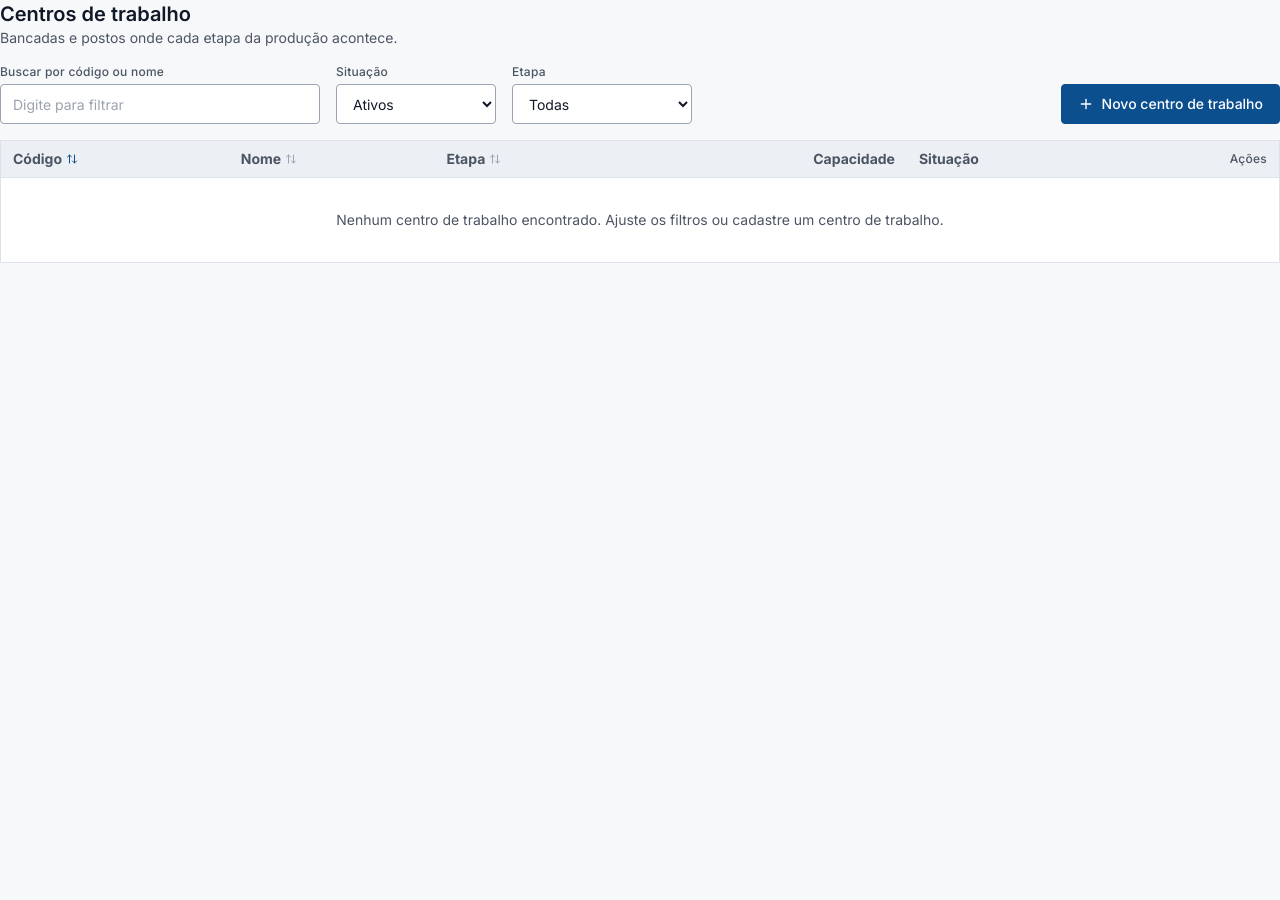
Test: CentrosTrabalho › capacidade acima de 24 horas e barrada no formulario
Expected: the text "Nenhum centro de trabalho encontrado" is shown, top-left (336, 211), bottom-right (944, 228)
Click the button "Novo centro de trabalho" at (1170, 104), box top-left (1061, 84), bottom-right (1279, 124)
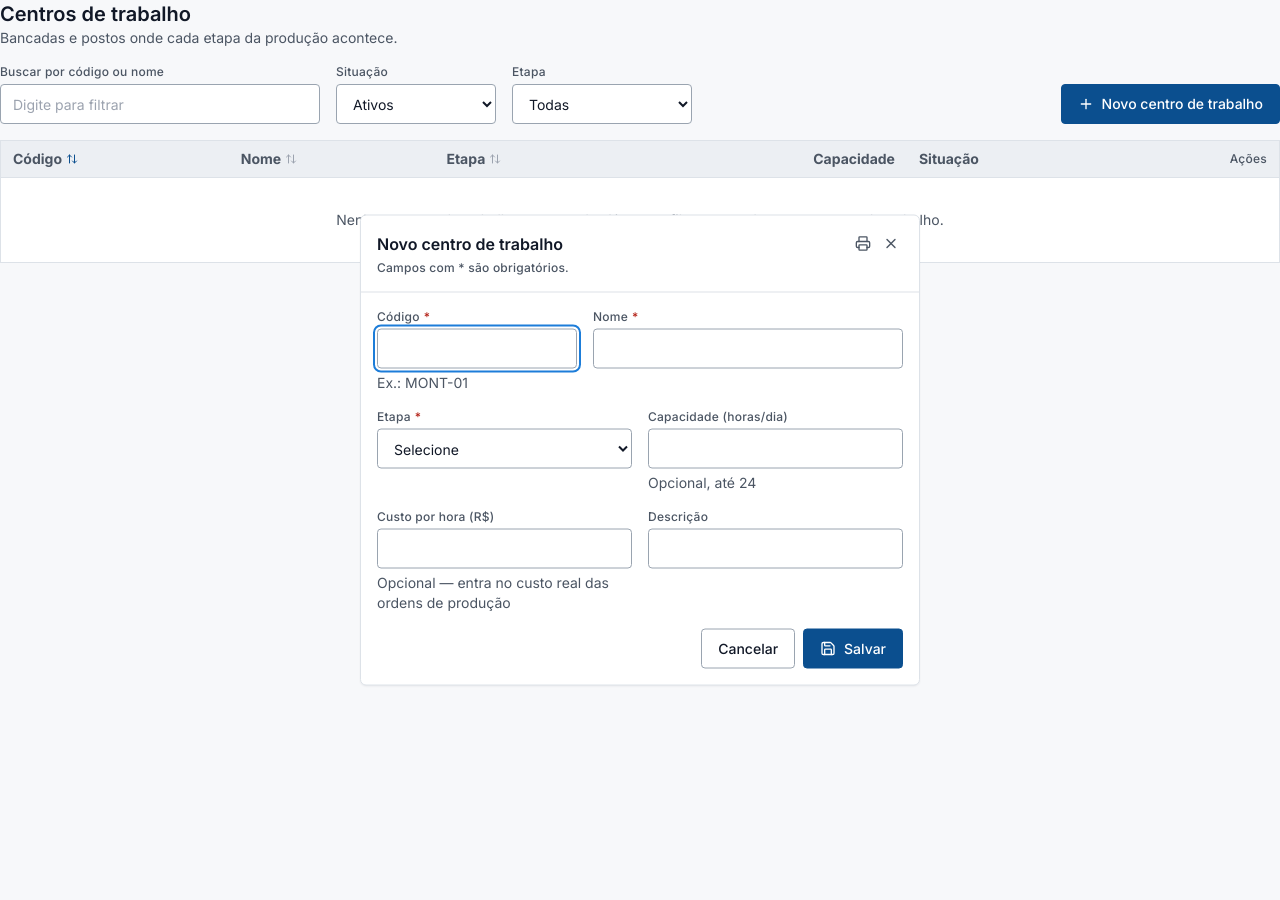
Type "TST-01" into the field labelled "Código*" at (477, 348), box top-left (377, 328), bottom-right (577, 368)
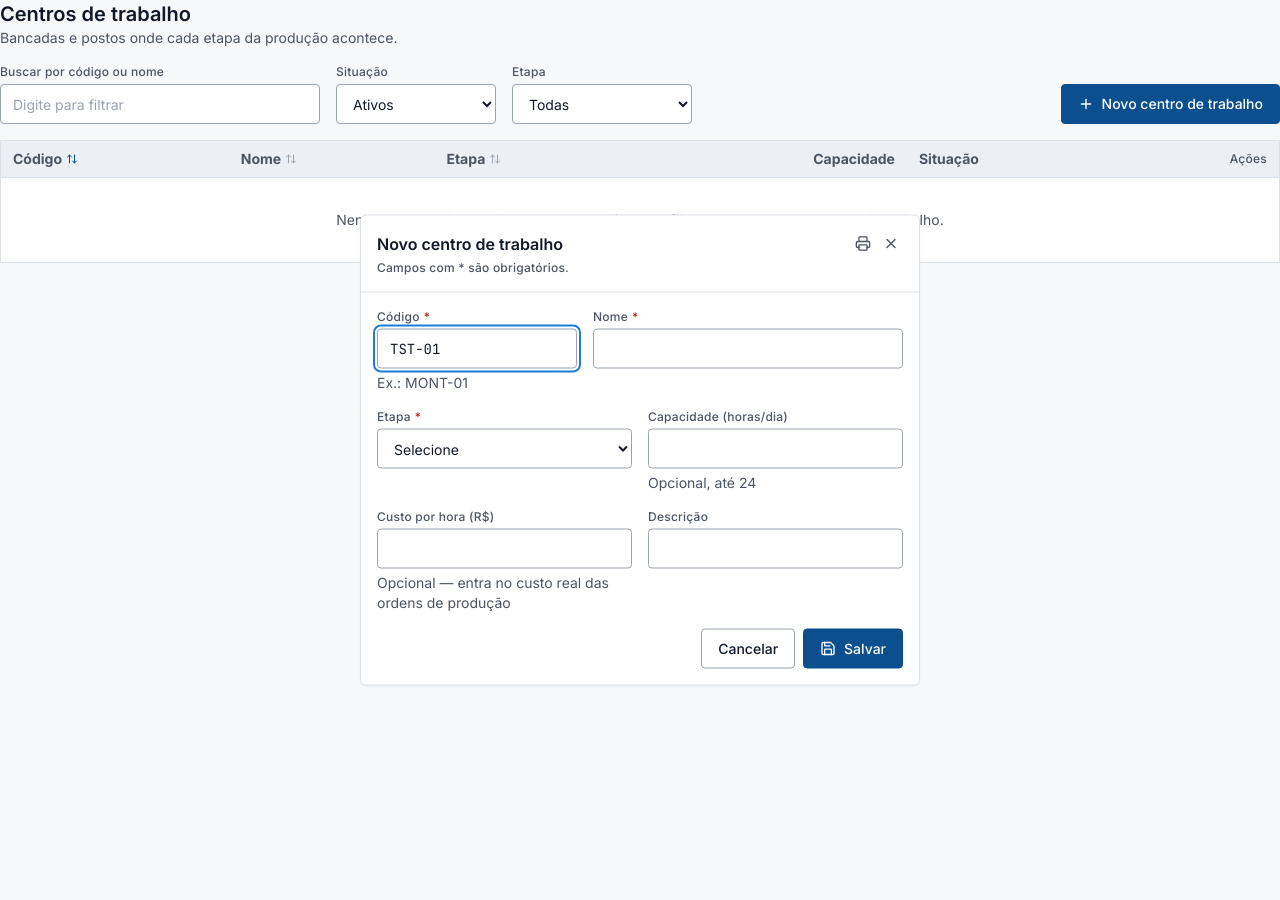
Type "Teste" into the field labelled "Nome*" at (748, 348), box top-left (593, 328), bottom-right (903, 368)
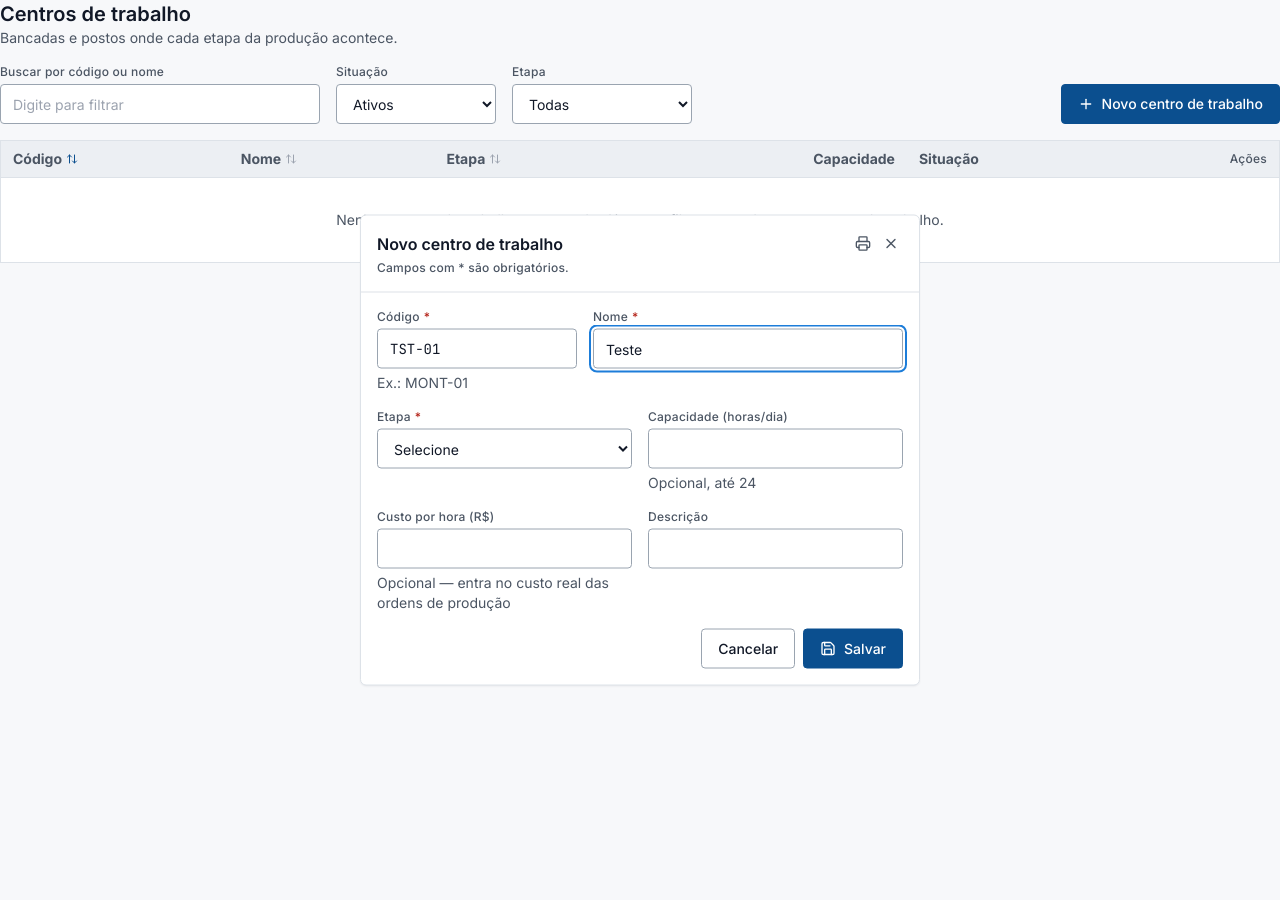
Select "Testes" in the dropdown labelled "Etapa*" at (504, 448), box top-left (377, 428), bottom-right (632, 468)
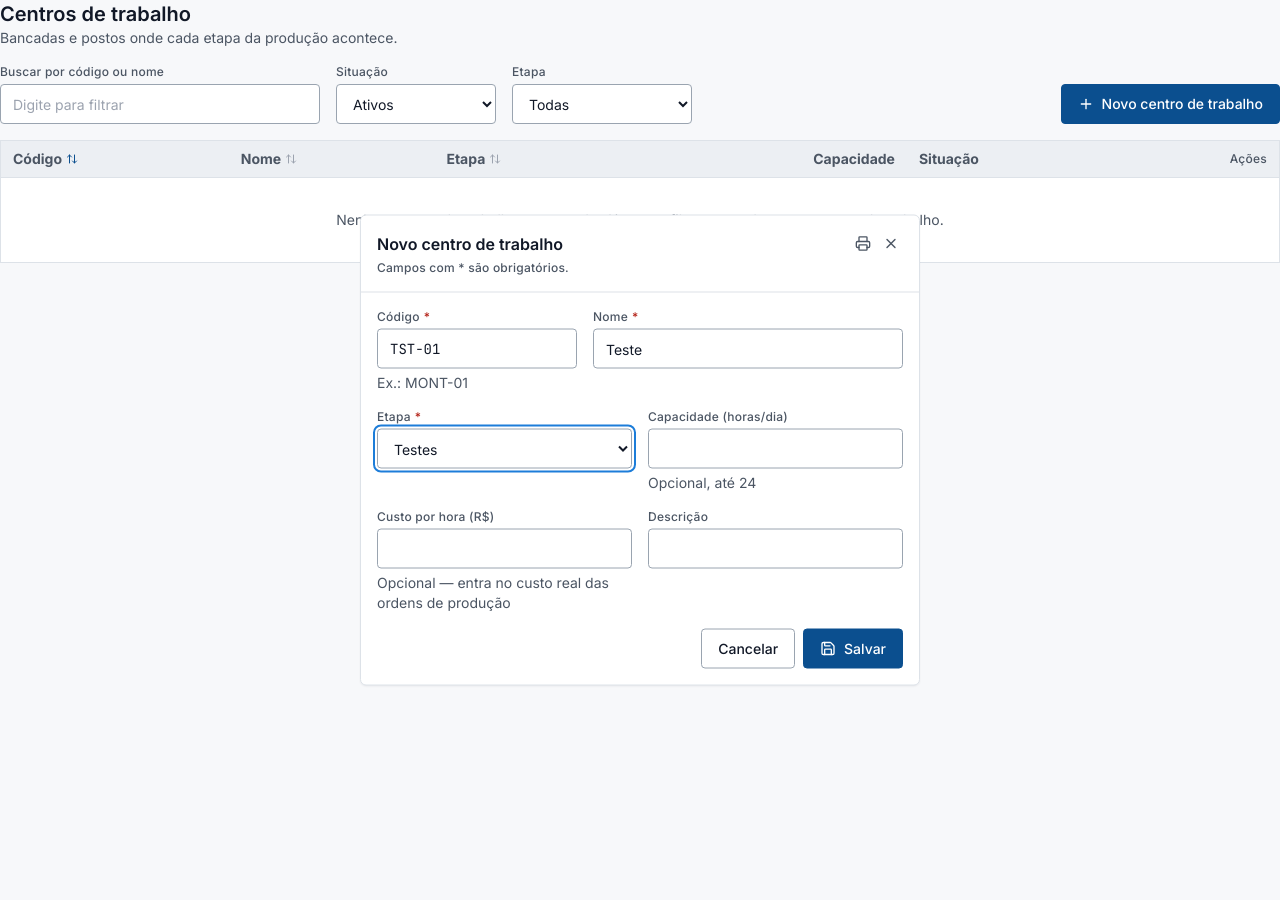
Type "25" into the field labelled "Capacidade (horas/dia)" at (776, 448), box top-left (648, 428), bottom-right (903, 468)
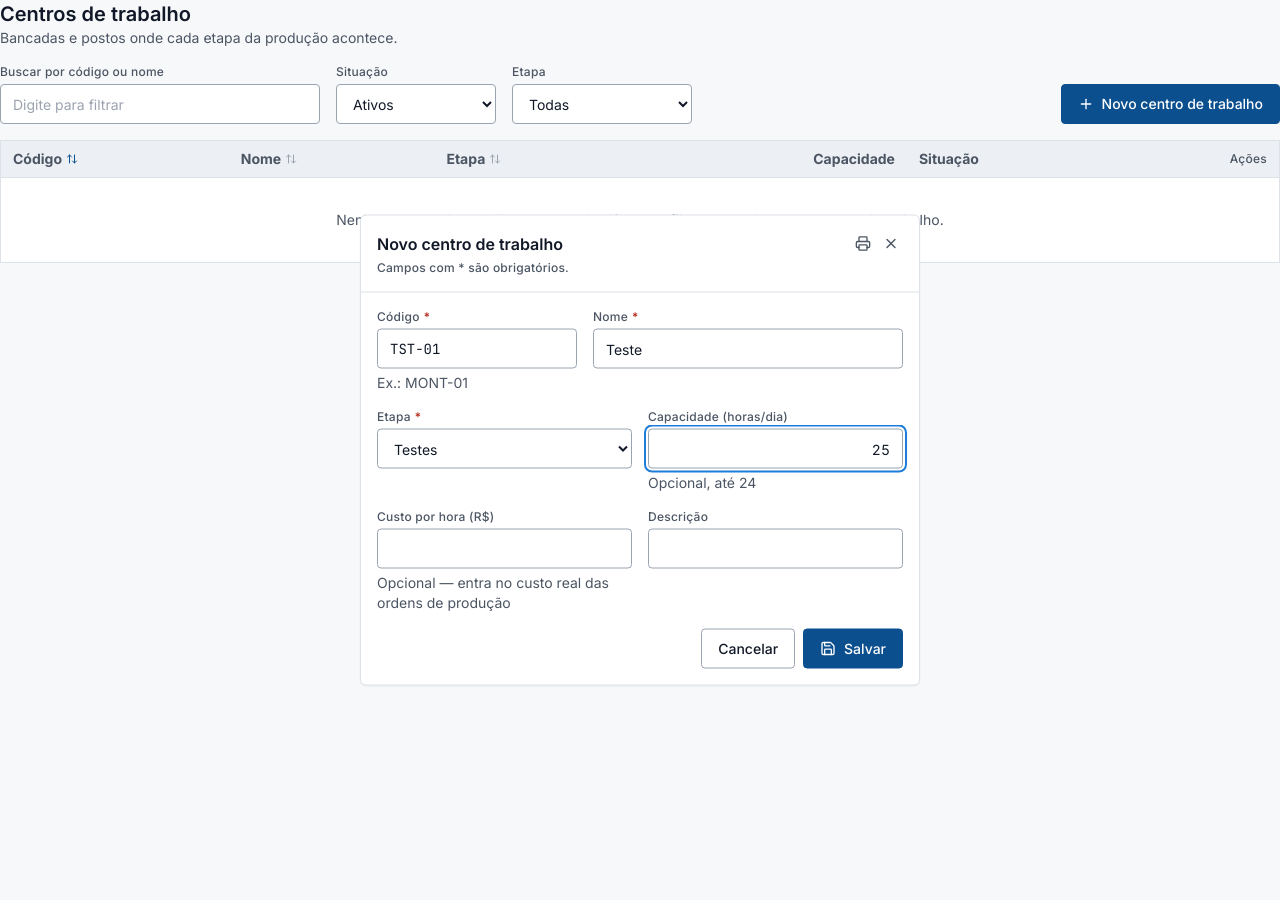
Click the button "Salvar" at (853, 648), box top-left (803, 628), bottom-right (903, 668)
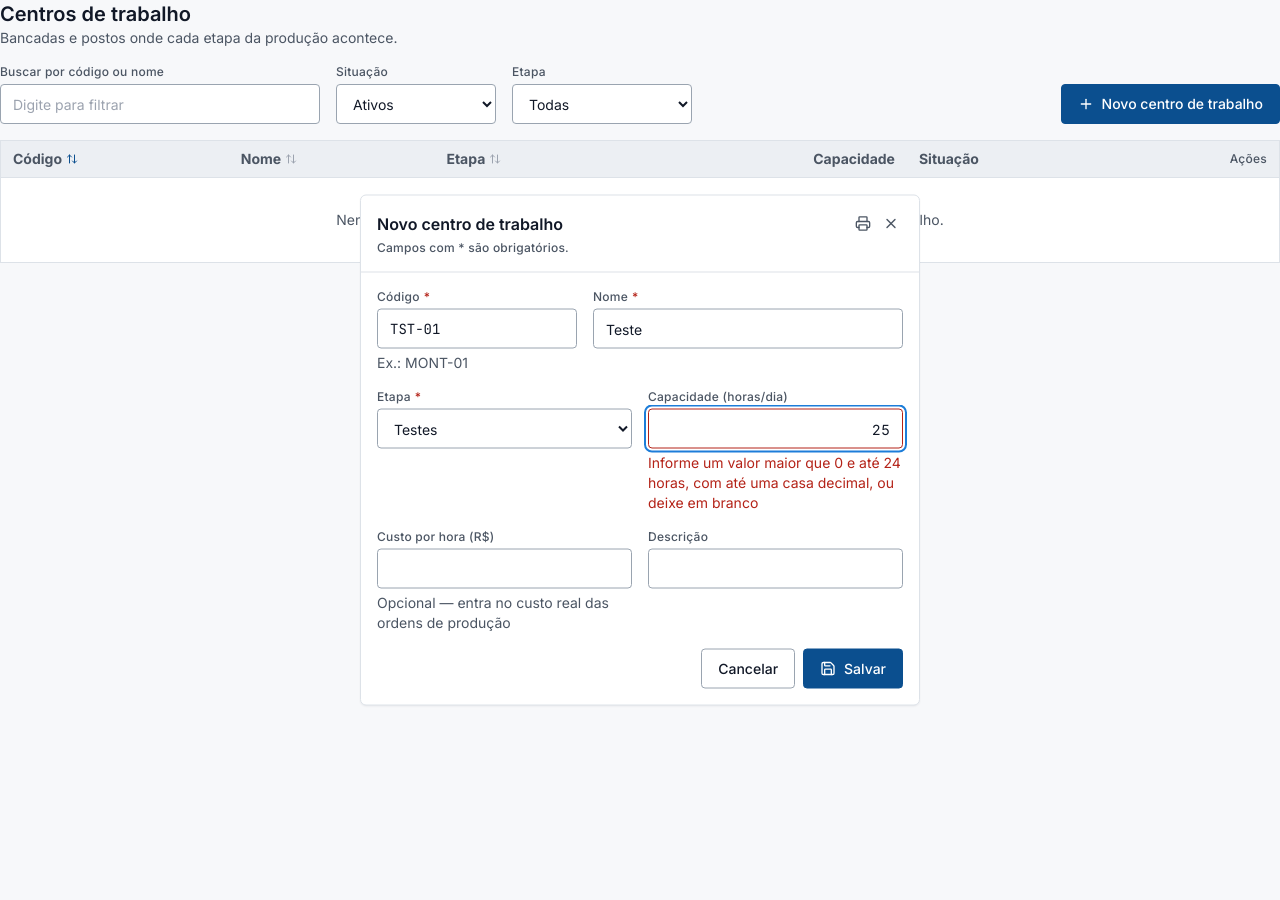
Now the text "maior que 0 e até 24 horas" is shown, box top-left (648, 454), bottom-right (901, 510)
